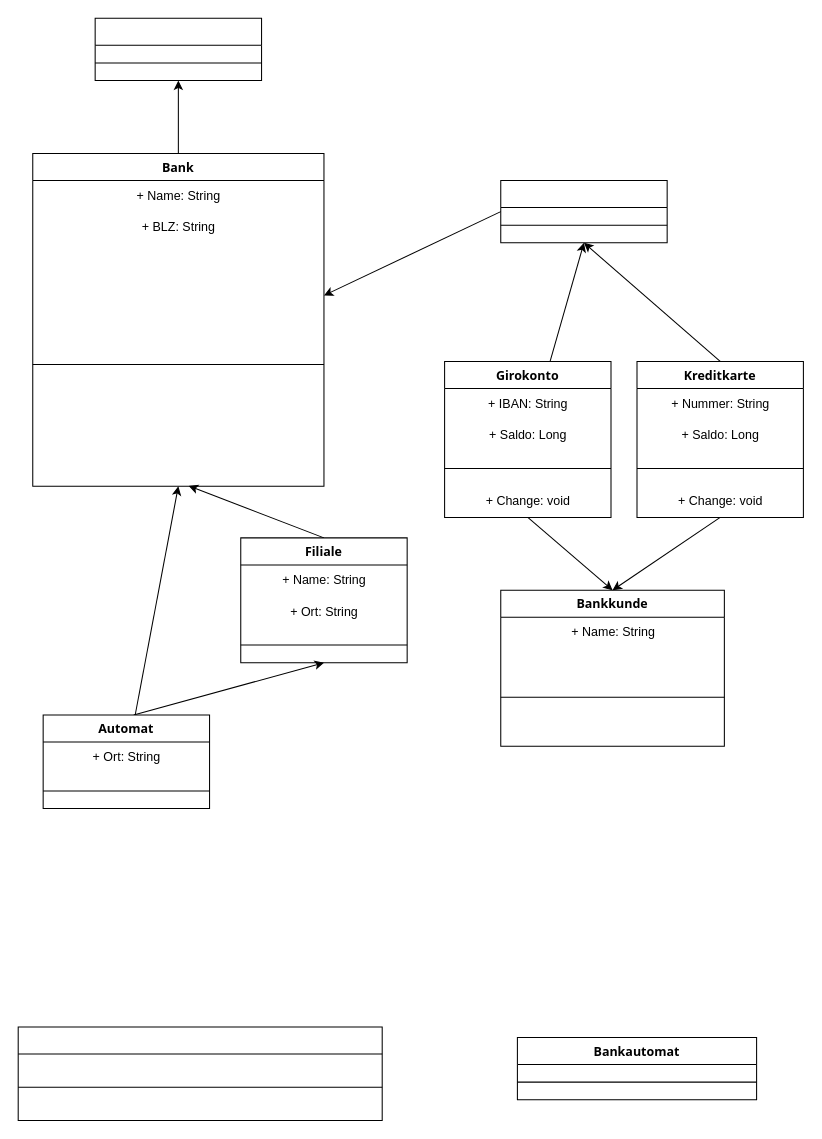
Image size: 822x1139. Some labels were removed from this diagram. The shapes that lost their labels are listed below. From the top down, each one's centre as x and y in pixels, then its label:
At point (178, 49): "BaFin".
At point (583, 211): "Bankprodukt".
At point (199, 1073): "Bankfiliale".
